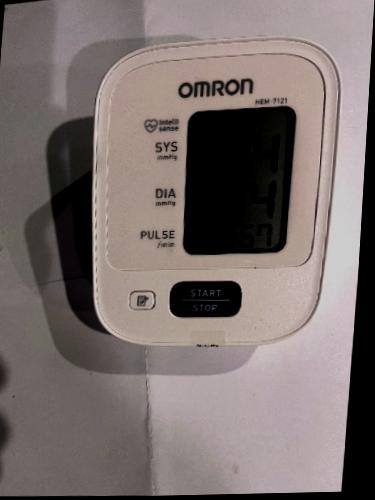bpm: (177, 98, 297, 264)
